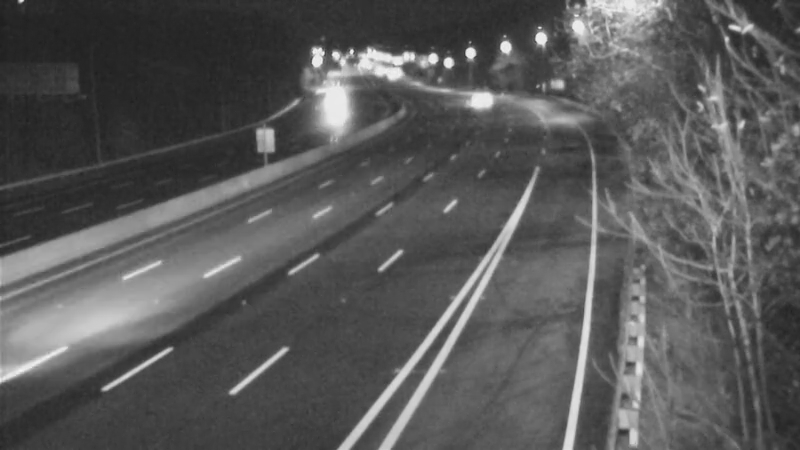vehicle: (455, 74, 505, 124), (302, 78, 352, 128)
